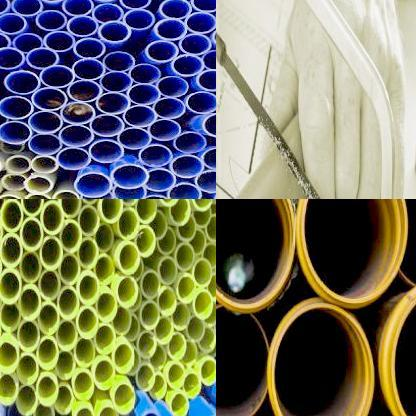pipe: (268, 303, 374, 416), (301, 199, 407, 303), (216, 199, 295, 310), (216, 305, 269, 416), (392, 199, 416, 290), (110, 164, 150, 189), (74, 172, 111, 198), (4, 71, 41, 94), (40, 200, 64, 235), (40, 65, 76, 88), (31, 87, 67, 110), (18, 286, 41, 322), (144, 40, 180, 62), (60, 102, 96, 124), (96, 92, 130, 115), (57, 147, 91, 170), (170, 155, 204, 178), (20, 216, 43, 250), (40, 236, 63, 270), (57, 286, 80, 320), (28, 111, 63, 133), (89, 114, 124, 136), (147, 119, 182, 141), (89, 141, 124, 163), (0, 96, 33, 119), (59, 220, 82, 253), (77, 272, 100, 305), (26, 48, 60, 70), (68, 80, 102, 102), (123, 106, 157, 128), (138, 145, 172, 167), (18, 319, 40, 353), (0, 121, 32, 144), (0, 269, 21, 304), (154, 18, 187, 40), (72, 58, 105, 80), (117, 207, 139, 240), (0, 234, 22, 267), (178, 34, 212, 55), (127, 84, 161, 105), (152, 98, 186, 119), (118, 128, 152, 149), (145, 169, 176, 192), (1, 201, 24, 232), (67, 15, 99, 37), (172, 54, 204, 76), (78, 204, 100, 236), (39, 269, 61, 301), (76, 307, 98, 339), (36, 338, 58, 370), (112, 342, 134, 374), (99, 21, 132, 42), (43, 31, 76, 52), (29, 134, 62, 155), (113, 384, 136, 414), (157, 76, 188, 98), (185, 91, 216, 113), (77, 237, 99, 268), (118, 244, 140, 275), (94, 325, 116, 356), (17, 354, 39, 385), (36, 375, 58, 406), (174, 132, 206, 153), (94, 253, 115, 285), (129, 64, 162, 84), (100, 72, 133, 92), (58, 254, 80, 284), (96, 293, 118, 323), (74, 338, 96, 368), (73, 371, 95, 401), (185, 12, 216, 33), (94, 223, 115, 254), (135, 226, 156, 257), (20, 252, 41, 283), (118, 277, 139, 308), (38, 304, 59, 335), (94, 359, 115, 390), (92, 4, 124, 24), (74, 38, 106, 58), (103, 52, 135, 72), (124, 9, 154, 30), (36, 10, 66, 31), (193, 290, 214, 320), (56, 320, 77, 350), (74, 338, 95, 368), (159, 0, 192, 19), (0, 340, 19, 373), (16, 385, 36, 416), (13, 33, 43, 53), (175, 242, 195, 272), (112, 306, 132, 336), (54, 383, 73, 414), (157, 257, 178, 285), (0, 303, 21, 331), (55, 352, 76, 380), (147, 210, 167, 239), (140, 270, 160, 299), (140, 301, 160, 330), (0, 47, 25, 70), (169, 199, 191, 225), (176, 216, 197, 243), (167, 183, 202, 199), (192, 258, 212, 286), (167, 332, 187, 360), (136, 364, 156, 392), (99, 199, 123, 222), (0, 13, 26, 34), (0, 373, 17, 405), (186, 315, 206, 342), (135, 199, 157, 223), (157, 227, 176, 254), (171, 303, 190, 330), (24, 176, 54, 193), (178, 274, 196, 302), (158, 288, 176, 316), (155, 318, 173, 346), (138, 331, 156, 359), (168, 362, 186, 390), (12, 0, 43, 16), (6, 155, 32, 174), (195, 170, 216, 193), (62, 0, 94, 15), (181, 338, 198, 366), (150, 373, 167, 401), (200, 357, 216, 386), (31, 156, 58, 173), (112, 186, 147, 199), (198, 327, 216, 352), (183, 373, 201, 398), (196, 69, 216, 91), (58, 199, 81, 218), (148, 346, 166, 370), (171, 392, 189, 416), (189, 230, 206, 255), (192, 207, 212, 228), (1, 174, 26, 190), (21, 199, 44, 216), (201, 113, 216, 138), (201, 147, 216, 169), (205, 214, 216, 243), (201, 49, 216, 70), (191, 0, 216, 12), (0, 142, 24, 154), (120, 0, 151, 9), (33, 403, 54, 416), (80, 191, 114, 199), (191, 199, 213, 211), (207, 272, 216, 301), (52, 190, 79, 199), (0, 32, 11, 53), (97, 406, 119, 416), (73, 407, 96, 416), (0, 107, 9, 128), (24, 193, 52, 199), (158, 199, 181, 206)
